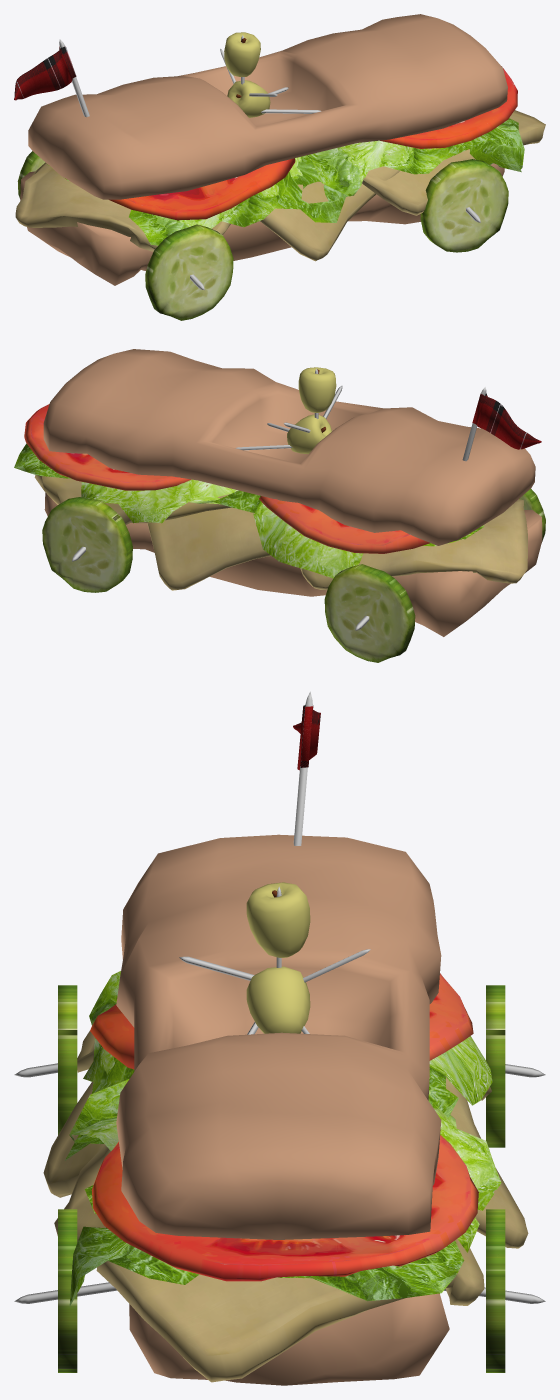
Rendered from Sandwich.fbx.
3 views of the same model, one above another, from view 1: azimuth 30°, elevation 25°; view 2: azimuth 150°, elevation 25°; view 3: azimuth 270°, elevation 25° (orthographic). The views are drawn at different scales.
Parts seen in each view (by area): view 1: Sandwich, Rad1, Rad3, Rad2; view 2: Sandwich, Rad2, Rad4, Rad1; view 3: Sandwich, Rad4, Rad2, Rad3, Rad1.
Part boxes in pixels (x1=…): Sandwich: x1=14, y1=14, x2=545, y2=290; Rad1: x1=145, y1=224, x2=233, y2=320; Rad3: x1=420, y1=159, x2=508, y2=252; Rad2: x1=17, y1=151, x2=45, y2=198; Sandwich: x1=14, y1=349, x2=542, y2=636; Rad2: x1=324, y1=564, x2=415, y2=662; Rad4: x1=42, y1=497, x2=132, y2=592; Rad1: x1=520, y1=489, x2=545, y2=541; Sandwich: x1=14, y1=691, x2=545, y2=1385; Rad4: x1=486, y1=1209, x2=505, y2=1372; Rad2: x1=486, y1=985, x2=505, y2=1147; Rad3: x1=58, y1=1209, x2=77, y2=1372; Rad1: x1=58, y1=985, x2=77, y2=1134.
Size of the model in its own units: 249 by 113 by 135.
